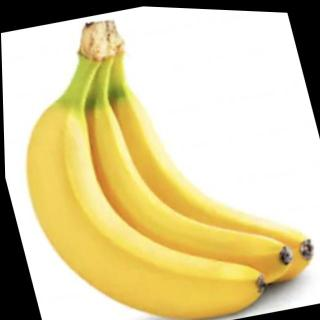banana: (5, 66, 271, 320), (47, 61, 299, 320), (95, 56, 320, 312)
